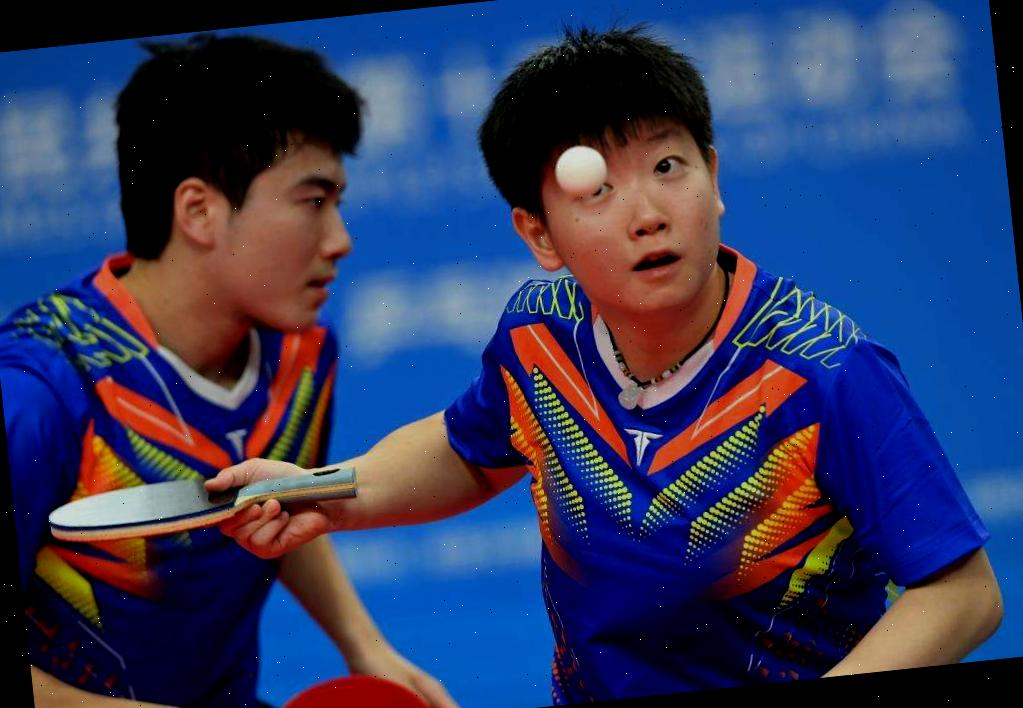ball: (547, 136, 612, 202)
